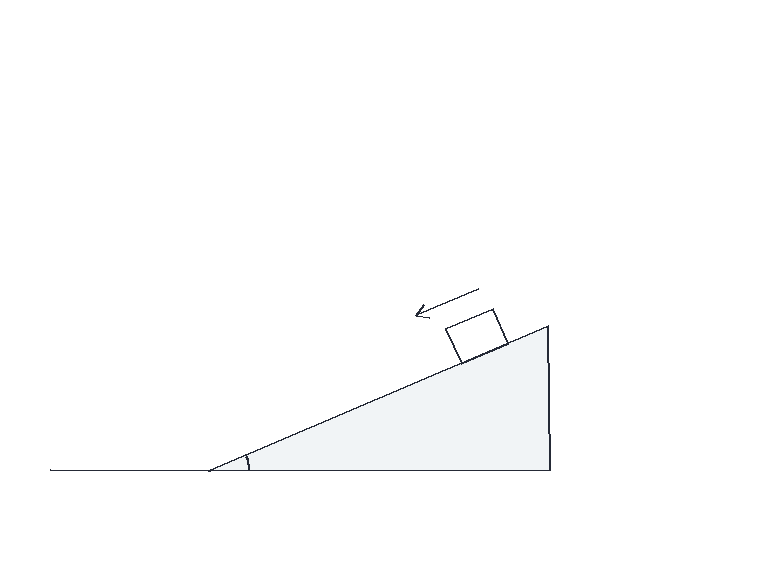block: (444, 307, 510, 365)
ramp: (207, 324, 551, 472)
